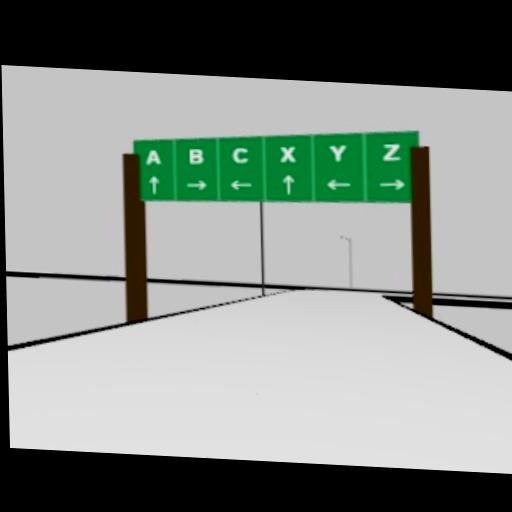A: (145, 147, 160, 165)
B: (188, 146, 203, 164)
C: (230, 145, 248, 163)
Left: (326, 177, 352, 190), (228, 178, 251, 189)
Right: (378, 175, 405, 189), (185, 177, 206, 190)
Straight: (281, 173, 294, 195), (147, 173, 159, 192)
X: (278, 142, 296, 161)
Y: (328, 142, 346, 161)
Z: (381, 140, 401, 161)
